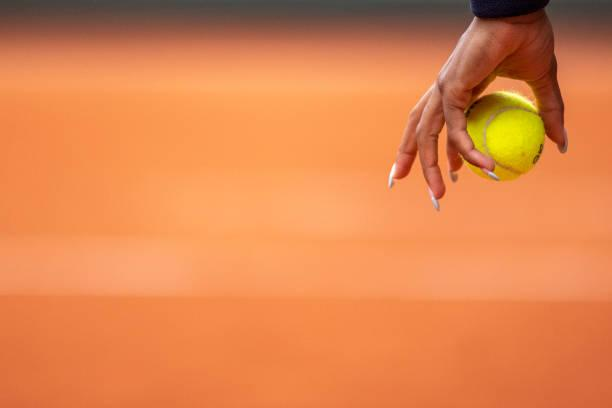ball_tennis: (464, 91, 546, 179)
